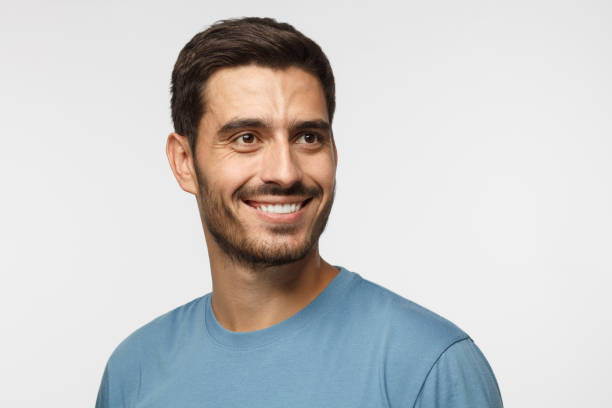Male: (83, 13, 512, 408)
